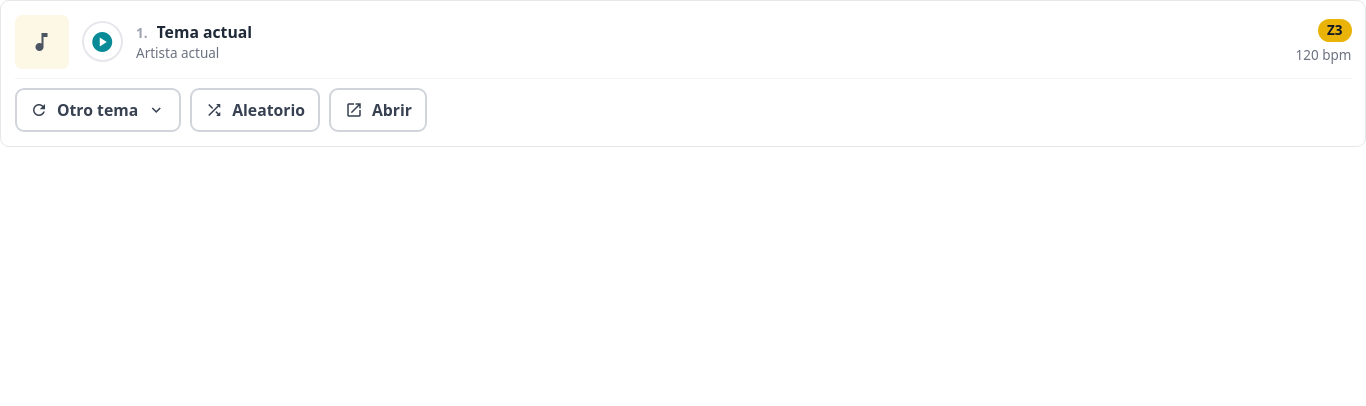
Scenario: PlaylistTrackRow > AlternativesPicker > buscador › filtra por artista
The width and height of the screenshot is (1366, 406).
Click the button with aria-label "Cambiar tema del tramo" at point(98, 110), box [14, 88, 181, 132]
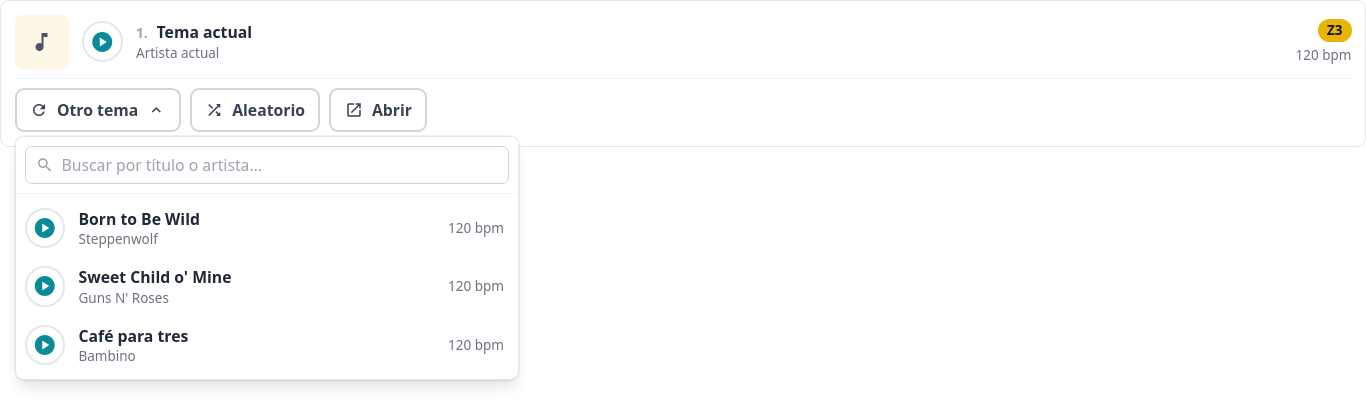
Type "Steppen" into the search field with placeholder "Buscar por título o artista…" at point(266, 165), box [24, 146, 508, 184]
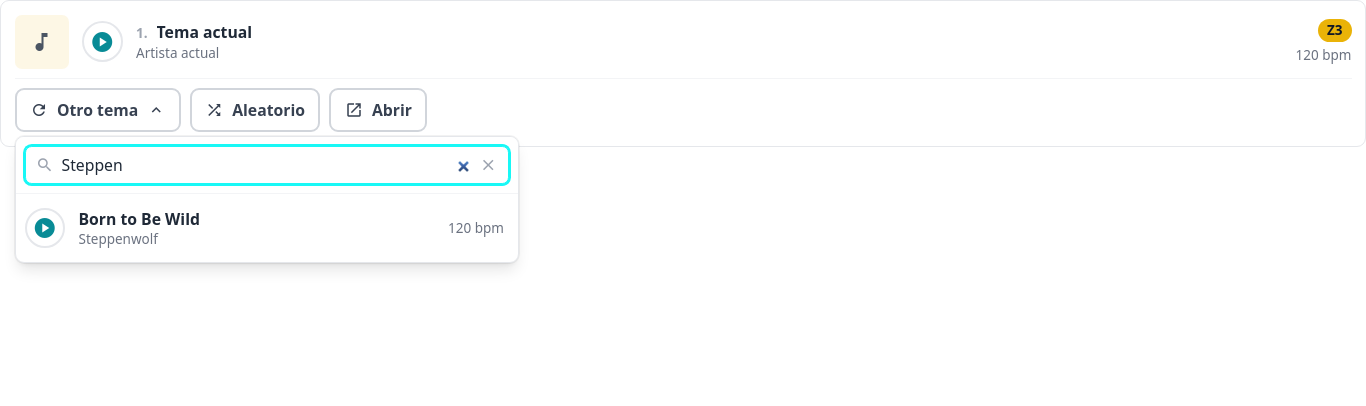
Now the option shows "Steppenwolf", box [74, 198, 508, 257]
Now the number of options is 1, box [74, 198, 508, 257]
